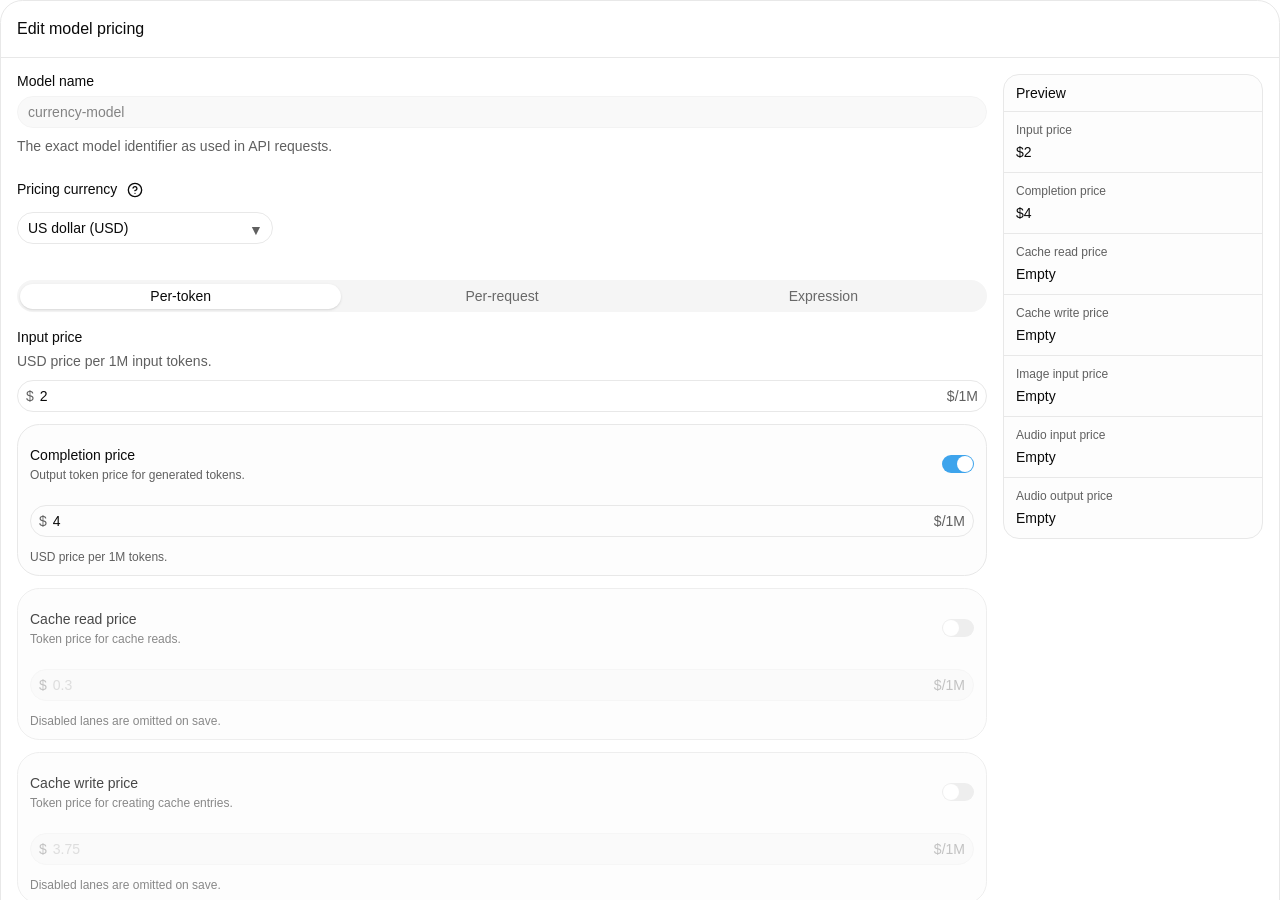
it: offers only USD when the site uses USD
Click the dropdown named "Pricing currency". click: (145, 228)
box: left=17, top=212, right=273, bottom=244
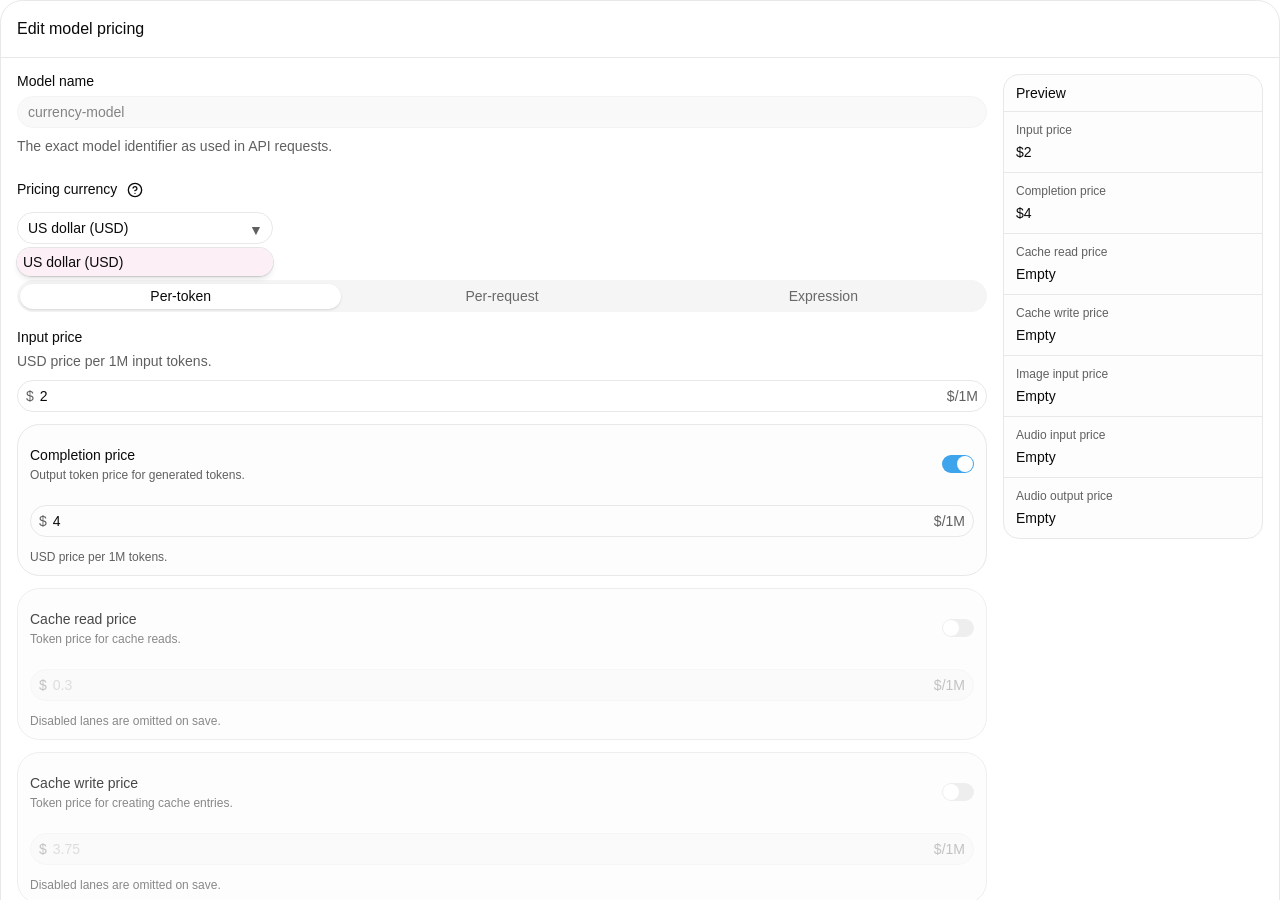
Expected: the number of options is 1, left=17, top=248, right=273, bottom=276
